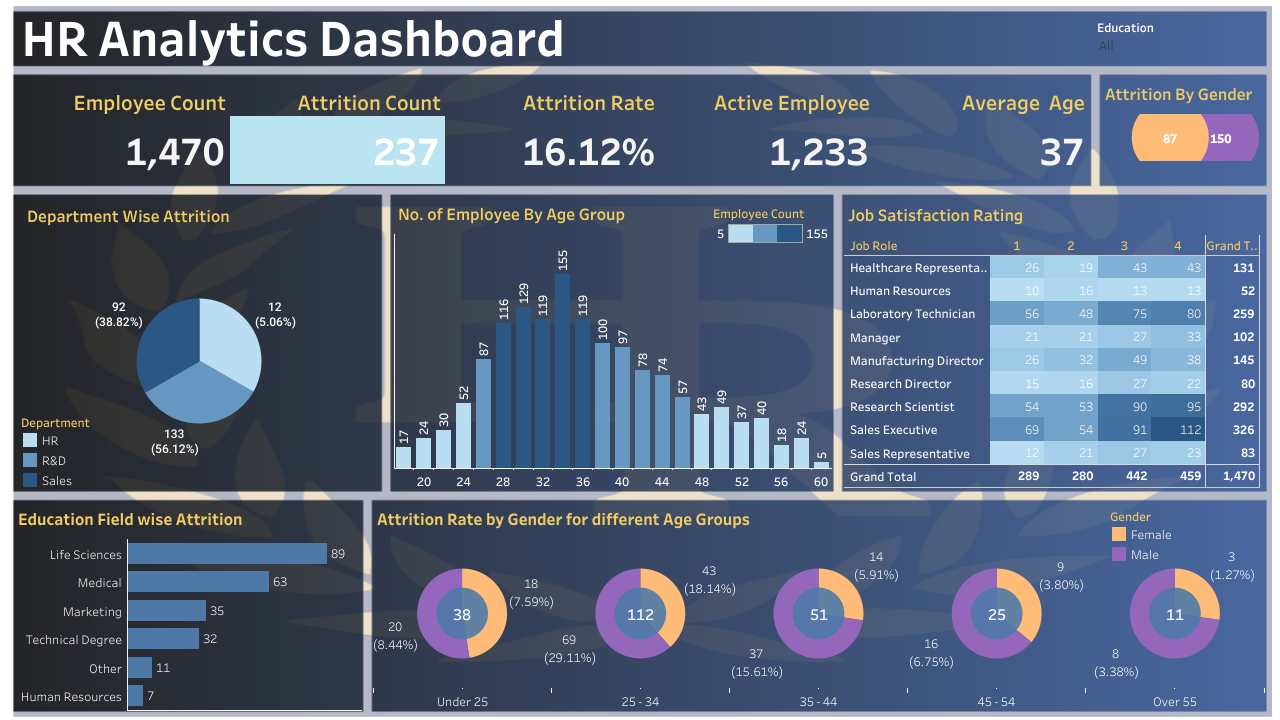

This screenshot's page, from the dashboard's own definition file:
{"tool":"tableau","page":{"name":"HR Analytics  Dashboard","canvas":[1280,720],"ordinal":0},"visuals":[{"type":"image","param":"Image/HR background.pptx.png","box":[8,6,1264,717]},{"type":"text","box":[19,12,582,48]},{"type":"filter","title":"Department Wise Attrition","param":"[federated.12xwaew02p7fg51b936yb0d78d6m].[none:Education:nk]","box":[1097,17,160,46]},{"type":"worksheet","title":"KPI","mark":"Automatic","box":[15,76,1074,108]},{"type":"worksheet","title":"Attrition By Gender","mark":"Pie","cols":["Calculation_13440453332496389","Calculation_13440453332496389"],"box":[1101,76,164,108]},{"type":"worksheet","title":"No. of Employee By Age Group","mark":"Automatic","rows":["Employee Count"],"cols":["Age (bin)"],"box":[394,196,437,294]},{"type":"worksheet","title":"Job Satisfaction Rating","mark":"Square","rows":["Job Role"],"cols":["Job Satisfaction"],"box":[844,197,416,291]},{"type":"worksheet","title":"Department Wise Attrition","mark":"Pie","box":[23,198,352,288]},{"type":"legend","title":"No. of Employee By Age Group","param":"[federated.12xwaew02p7fg51b936yb0d78d6m].[sum:Employee Count:qk]","box":[713,200,120,45]},{"type":"legend","title":"Department Wise Attrition","param":"[federated.12xwaew02p7fg51b936yb0d78d6m].[none:Department:nk]","box":[20,411,92,79]},{"type":"worksheet","title":"Education Field wise Attrition","mark":"Automatic","rows":["Education Field"],"cols":["Calculation_13440453332496389"],"box":[14,501,347,209]},{"type":"worksheet","title":"Attrition Rate by Gender for different Age Groups","mark":"Pie","rows":["Calculation_1055554721116172","Calculation_1055554721116172"],"cols":["CF_age band"],"box":[373,501,891,209]},{"type":"legend","title":"Attrition Rate by Gender for different Age Groups","param":"[federated.12xwaew02p7fg51b936yb0d78d6m].[none:Gender:nk]","box":[1109,505,140,59]}]}

Visuals, with their boxes in screenshot pixels (x1, y1, x2, y2), scaled from the page's 1280x720 canvas onto the 1280x720 screenshot:
image: BBox(8, 6, 1272, 719)
text: BBox(19, 12, 601, 60)
"Department Wise Attrition" filter: BBox(1097, 17, 1257, 63)
"KPI" worksheet: BBox(15, 76, 1089, 184)
"Attrition By Gender" worksheet (Pie marks): BBox(1101, 76, 1265, 184)
"No. of Employee By Age Group" worksheet: BBox(394, 196, 831, 490)
"Job Satisfaction Rating" worksheet (Square marks): BBox(844, 197, 1260, 488)
"Department Wise Attrition" worksheet (Pie marks): BBox(23, 198, 375, 486)
"No. of Employee By Age Group" legend: BBox(713, 200, 833, 245)
"Department Wise Attrition" legend: BBox(20, 411, 112, 490)
"Education Field wise Attrition" worksheet: BBox(14, 501, 361, 710)
"Attrition Rate by Gender for different Age Groups" worksheet (Pie marks): BBox(373, 501, 1264, 710)
"Attrition Rate by Gender for different Age Groups" legend: BBox(1109, 505, 1249, 564)
